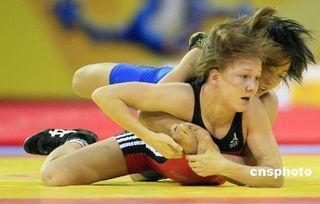Fall-Detected: (17, 5, 298, 192)
